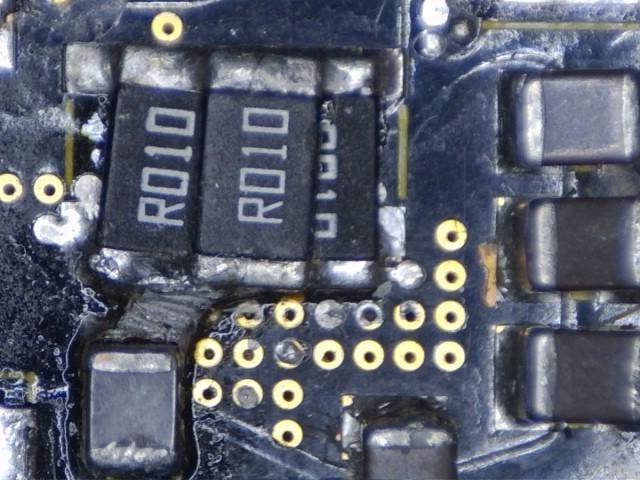pcb_defect: (61, 41, 410, 293), (32, 174, 427, 375), (65, 41, 405, 99)
